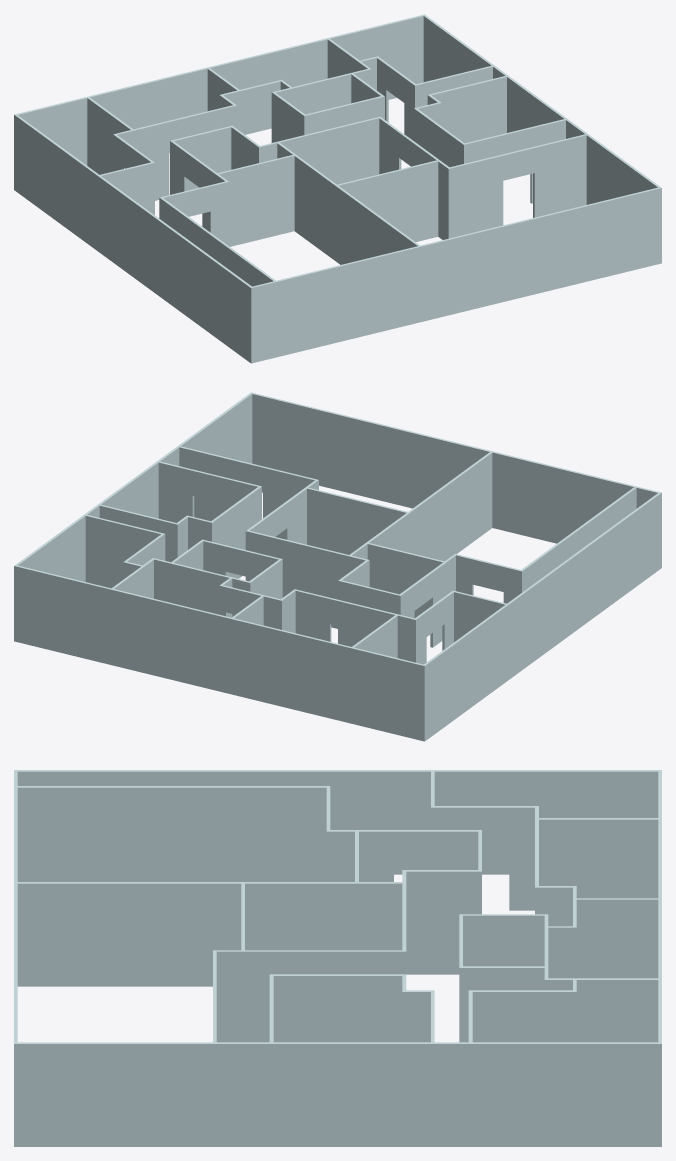
The model's file is floorplan53.dae.
3 views of the same model, one above another, from view 1: azimuth 30°, elevation 25°; view 2: azimuth 150°, elevation 25°; view 3: azimuth 270°, elevation 25° (orthographic). The views are drawn at different scales.
Visible parts, largest first — view 1: Room_2, FloorBoundary, Room_5, Room_8, Room_7, Room_0, Room_3, Room_1, Room_9, Room_6, Room_4; view 2: FloorBoundary, Room_2, Room_5, Room_8, Room_0, Room_1, Room_6, Room_3, Room_9, Room_7, Room_4; view 3: FloorBoundary, Room_2, Room_5, Room_1, Room_3, Room_8, Room_9, Room_0, Room_7, Room_6, Room_4.
Part boxes in pixels (bbox=[...]): Room_2: bbox=[334, 133, 661, 322]; FloorBoundary: bbox=[14, 15, 660, 363]; Room_5: bbox=[159, 155, 421, 357]; Room_8: bbox=[14, 96, 154, 251]; Room_7: bbox=[170, 125, 295, 246]; Room_0: bbox=[87, 68, 241, 200]; Room_3: bbox=[414, 75, 566, 203]; Room_1: bbox=[327, 14, 494, 140]; Room_9: bbox=[277, 116, 438, 260]; Room_6: bbox=[206, 38, 371, 134]; Room_4: bbox=[271, 73, 384, 142]; FloorBoundary: bbox=[14, 393, 661, 739]; Room_2: bbox=[177, 392, 493, 559]; Room_5: bbox=[366, 451, 637, 603]; Room_8: bbox=[350, 590, 509, 741]; Room_0: bbox=[230, 589, 398, 723]; Room_1: bbox=[14, 514, 165, 665]; Room_6: bbox=[110, 558, 264, 694]; Room_3: bbox=[98, 461, 261, 578]; Room_9: bbox=[245, 487, 410, 628]; Room_7: bbox=[338, 544, 446, 647]; Room_4: bbox=[169, 539, 282, 616]; FloorBoundary: bbox=[14, 770, 661, 1146]; Room_2: bbox=[14, 882, 244, 1146]; Room_5: bbox=[14, 786, 358, 986]; Room_1: bbox=[468, 978, 661, 1146]; Room_3: bbox=[269, 974, 434, 1146]; Room_8: bbox=[431, 770, 661, 910]; Room_9: bbox=[241, 882, 406, 1042]; Room_0: bbox=[535, 818, 661, 933]; Room_7: bbox=[355, 830, 481, 974]; Room_6: bbox=[544, 898, 661, 1042]; Room_4: bbox=[459, 914, 548, 1042].
Size of the model in its own units: 17.1 by 17.1 by 3.
